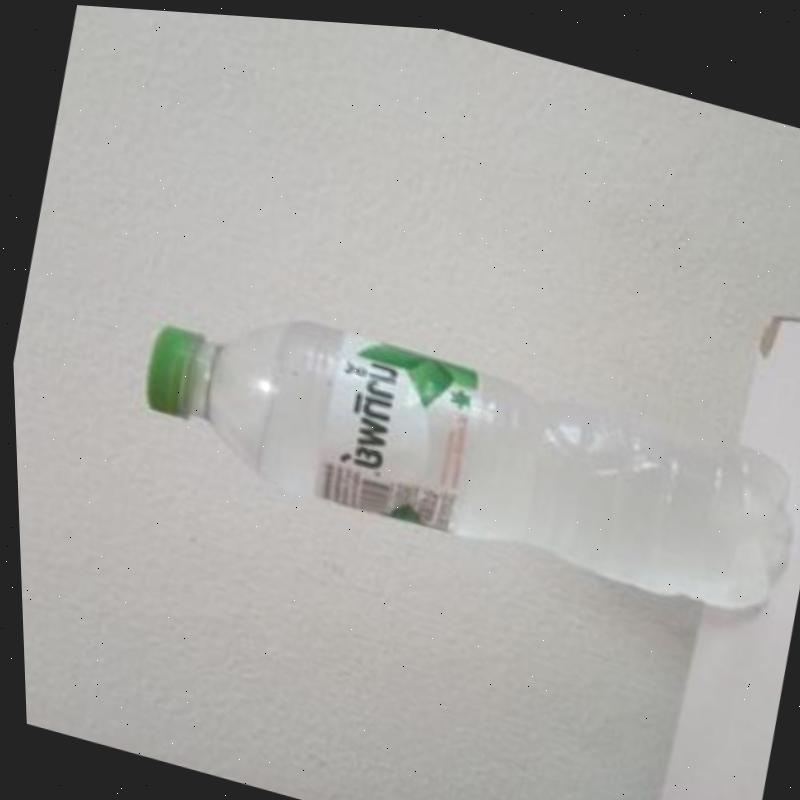botella: (121, 265, 800, 625)
